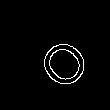O_NW: (21, 22, 89, 88)
